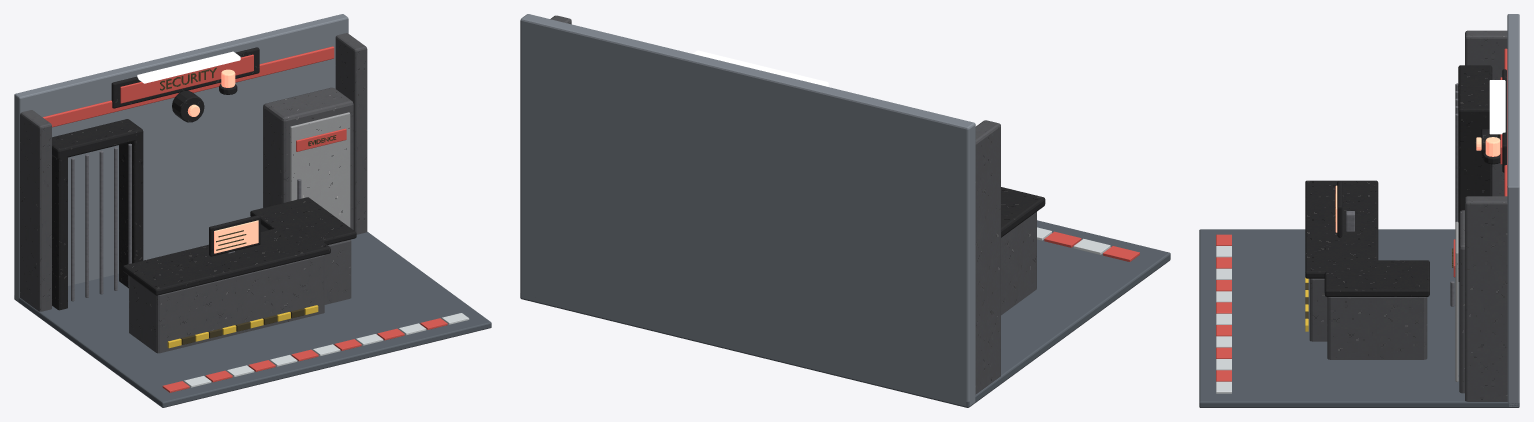
File: department_security_starter.glb
3 views of the same model, side by side, from view 1: azimuth 30°, elevation 25°; view 2: azimuth 150°, elevation 25°; view 3: azimuth 270°, elevation 25° (orthographic). The views are drawn at different scales.
Parts seen in each view (by area): view 1: DEPT_Security__Back_Wall, DEPT_Security__Floor, DEPT_Security__Checkpoint_Desk_Main, DEPT_Security__Left_Pilaster, DEPT_Security__Checkpoint_Desk_Top, DEPT_Security__Evidence_Locker, DEPT_Security__Evidence_Door, DEPT_Security__Right_Pilaster, DEPT_Security__Checkpoint_Desk_Return_Top, DEPT_Security__Brig_Frame_Right, DEPT_Security__Brig_Frame_Left, DEPT_Security__Back_Wall_Accent (+14 smaller); view 2: DEPT_Security__Back_Wall, DEPT_Security__Floor, DEPT_Security__Left_Pilaster, DEPT_Security__Checkpoint_Desk_Main, DEPT_Security__Checkpoint_Desk_Top, DEPT_Security__Ceiling_Light; view 3: DEPT_Security__Floor, DEPT_Security__Right_Pilaster, DEPT_Security__Checkpoint_Desk_Top, DEPT_Security__Checkpoint_Desk_Return, DEPT_Security__Back_Wall, DEPT_Security__Checkpoint_Desk_Return_Top, DEPT_Security__Brig_Frame_Right, DEPT_Security__Left_Pilaster, DEPT_Security__Brig_Frame_Top, DEPT_Security__Checkpoint_Desk_Main, DEPT_Security__Evidence_Locker, DEPT_Security__Ceiling_Light (+6 smaller).
Part boxes in pixels (<box>): DEPT_Security__Back_Wall: <box>14,14,348,301</box>; DEPT_Security__Floor: <box>14,232,491,407</box>; DEPT_Security__Checkpoint_Desk_Main: <box>129,255,324,353</box>; DEPT_Security__Left_Pilaster: <box>20,110,51,311</box>; DEPT_Security__Checkpoint_Desk_Top: <box>123,224,330,295</box>; DEPT_Security__Evidence_Locker: <box>263,87,353,229</box>; DEPT_Security__Evidence_Door: <box>290,112,350,227</box>; DEPT_Security__Right_Pilaster: <box>335,33,367,234</box>; DEPT_Security__Checkpoint_Desk_Return_Top: <box>250,197,356,244</box>; DEPT_Security__Brig_Frame_Right: <box>119,131,143,288</box>; DEPT_Security__Brig_Frame_Left: <box>52,142,67,310</box>; DEPT_Security__Back_Wall_Accent: <box>42,46,334,127</box>; DEPT_Security__Back_Wall: <box>520,14,975,406</box>; DEPT_Security__Floor: <box>520,220,1170,407</box>; DEPT_Security__Left_Pilaster: <box>975,120,1000,394</box>; DEPT_Security__Checkpoint_Desk_Main: <box>1001,212,1036,315</box>; DEPT_Security__Checkpoint_Desk_Top: <box>1001,187,1045,237</box>; DEPT_Security__Ceiling_Light: <box>693,50,828,86</box>; DEPT_Security__Floor: <box>1199,229,1519,407</box>; DEPT_Security__Right_Pilaster: <box>1465,196,1507,401</box>; DEPT_Security__Checkpoint_Desk_Top: <box>1305,180,1378,278</box>; DEPT_Security__Checkpoint_Desk_Return: <box>1327,297,1427,359</box>; DEPT_Security__Back_Wall: <box>1507,14,1519,406</box>; DEPT_Security__Checkpoint_Desk_Return_Top: <box>1324,260,1429,296</box>; DEPT_Security__Brig_Frame_Right: <box>1458,109,1492,281</box>; DEPT_Security__Left_Pilaster: <box>1465,30,1507,196</box>; DEPT_Security__Brig_Frame_Top: <box>1458,65,1492,118</box>; DEPT_Security__Checkpoint_Desk_Main: <box>1309,278,1327,341</box>; DEPT_Security__Evidence_Locker: <box>1459,210,1464,393</box>; DEPT_Security__Ceiling_Light: <box>1489,80,1505,134</box>.
Size of the model in its own units: 4.6 by 2.75 by 3.6.
12 materials, 4 textured.
